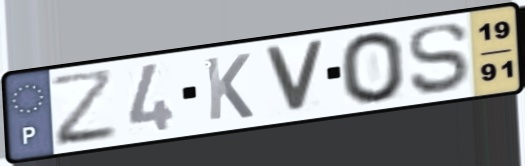4: (124, 61, 177, 136)
K: (202, 51, 256, 123)
O: (336, 29, 409, 106)
S: (405, 20, 471, 98)
V: (260, 38, 328, 114)
Z: (46, 66, 121, 150)
